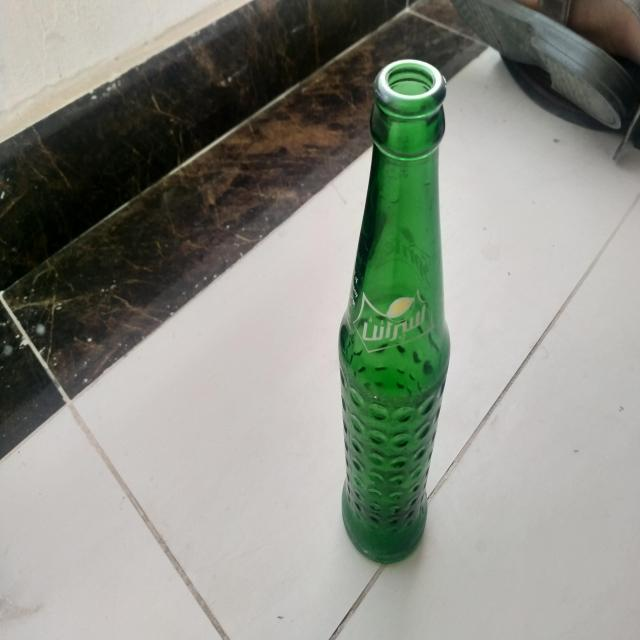bottle-glass: (339, 56, 450, 567)
